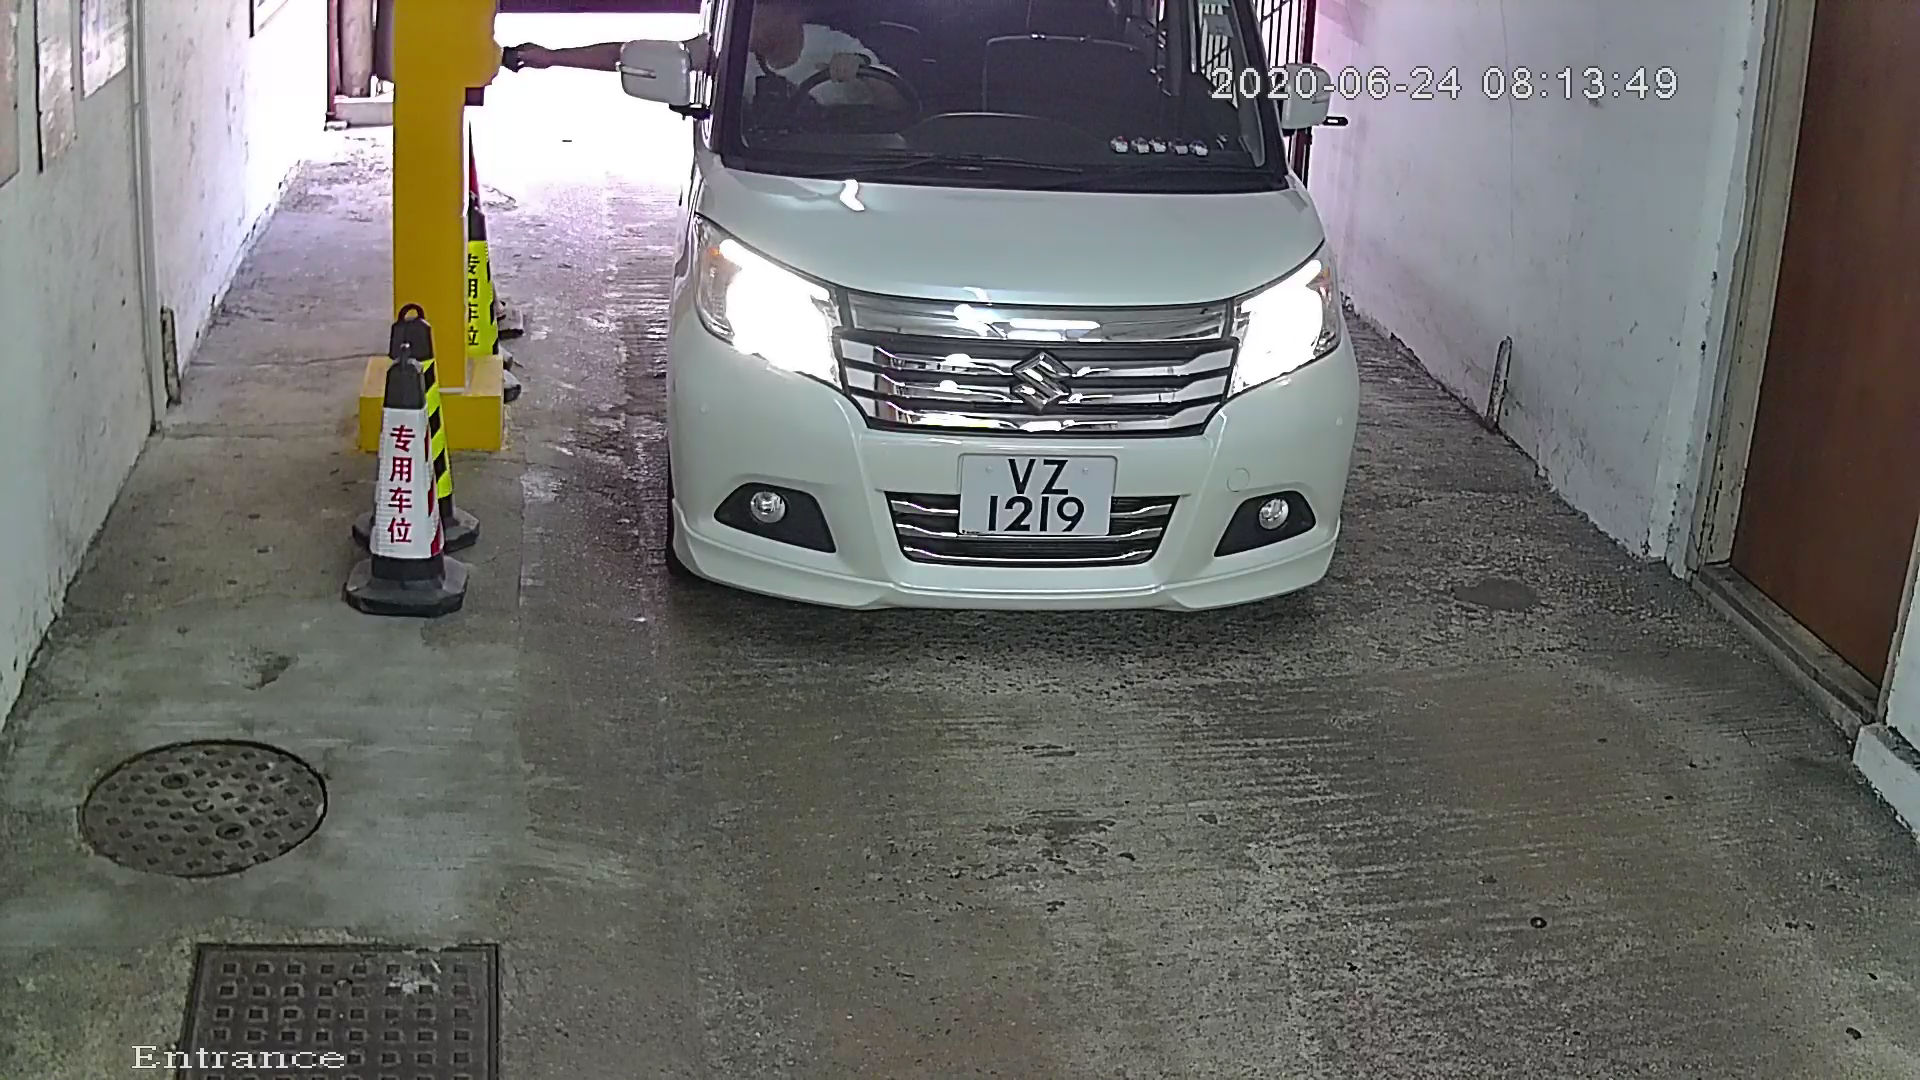privatecar: (591, 1, 1400, 695)
